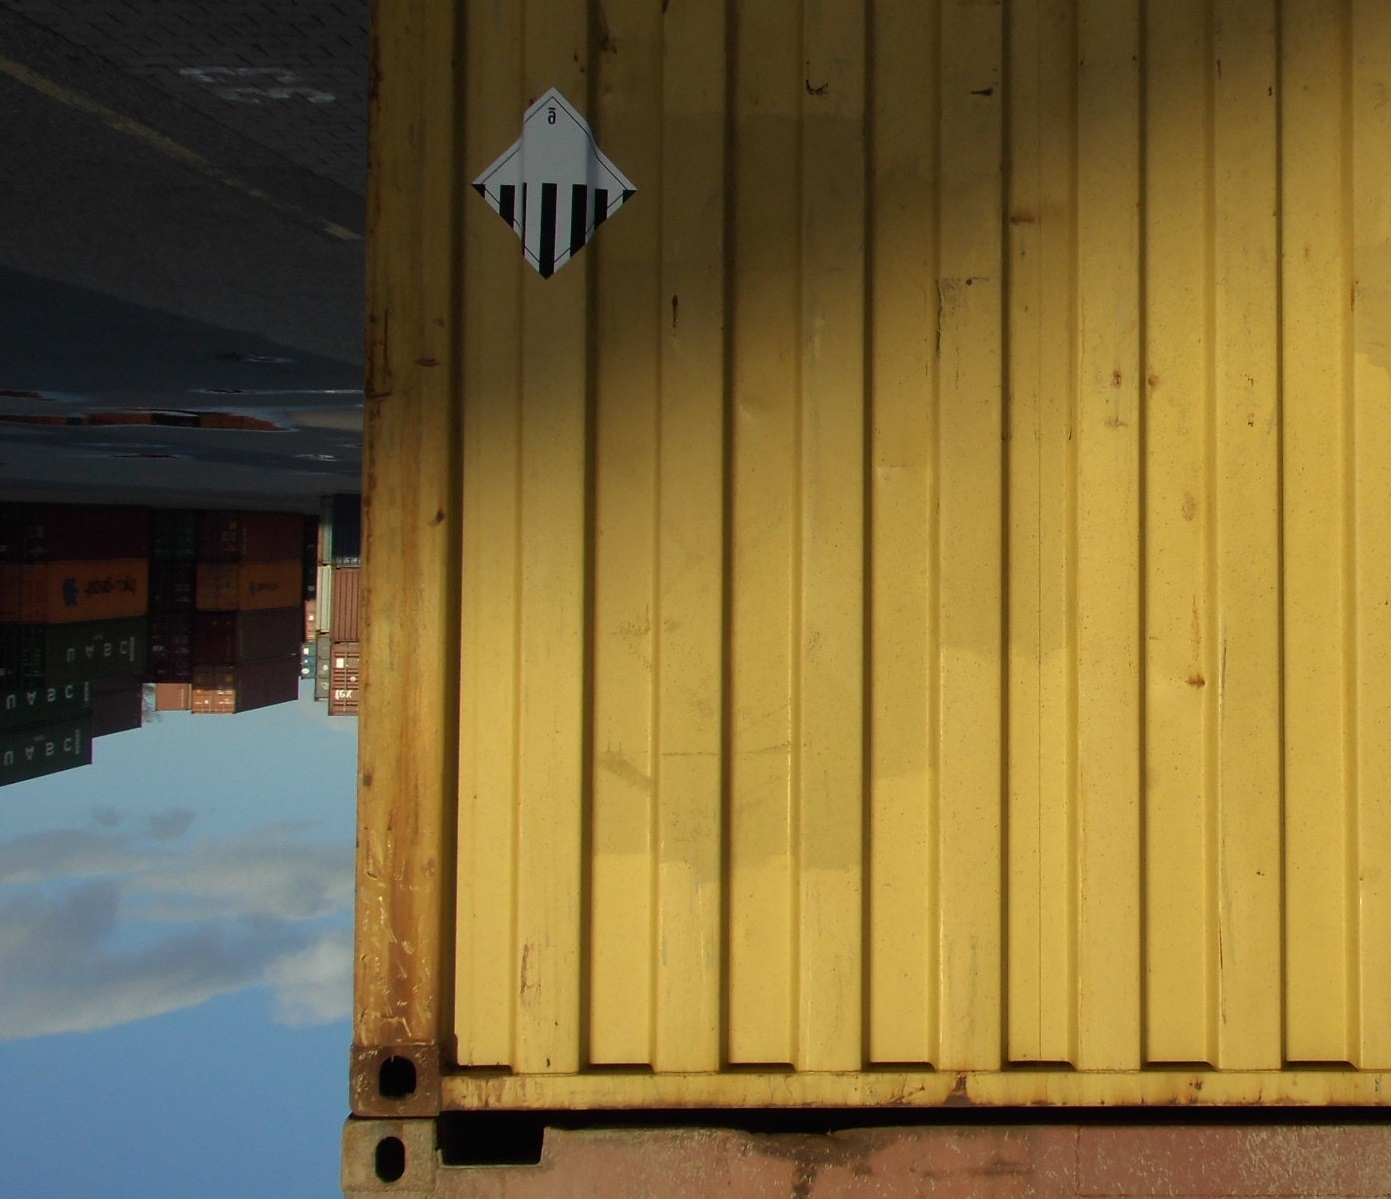container_no_door: (351, 17, 1387, 1109)
